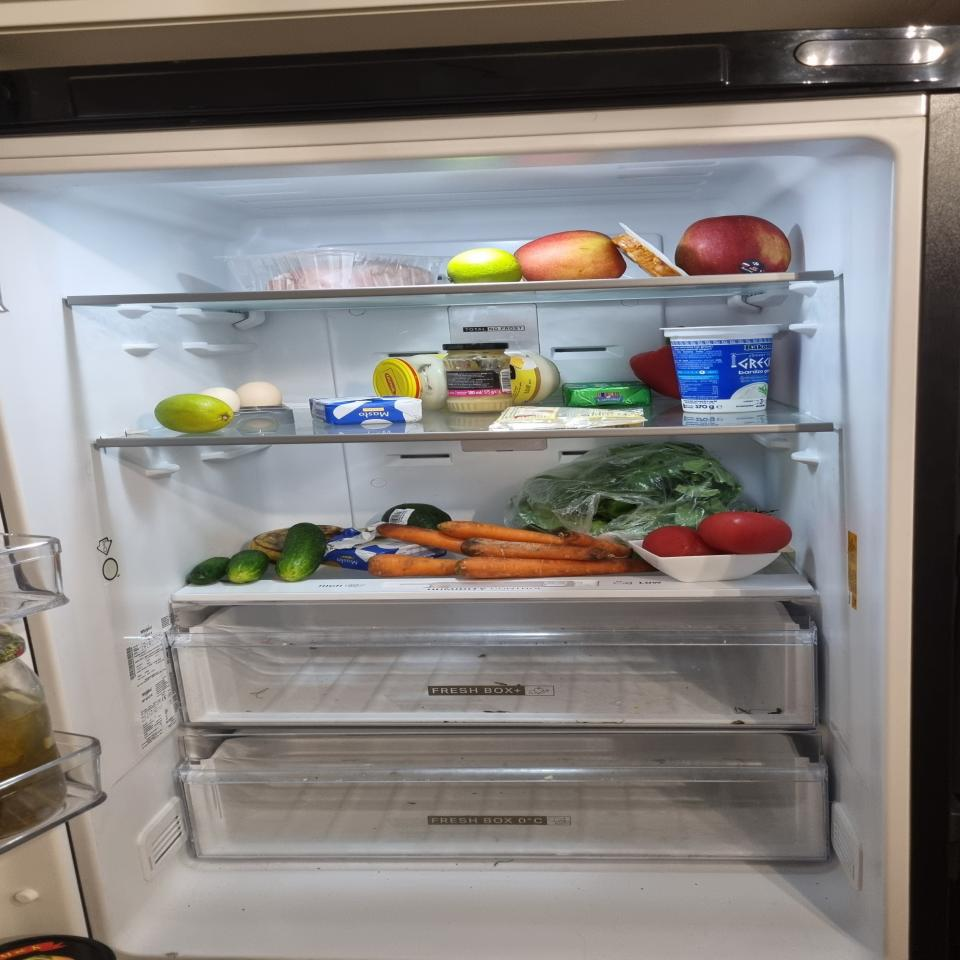Aguacate: (382, 503, 452, 556)
Carne pollo: (214, 247, 454, 291)
Huevos: (199, 382, 281, 412)
Lechuga/Endivia: (505, 440, 742, 542)
Mantequilla: (322, 520, 448, 570), (308, 395, 422, 426), (562, 381, 652, 407)
Manzana: (675, 214, 791, 276), (513, 230, 627, 282)
Pepino: (276, 523, 326, 581), (227, 550, 270, 584), (187, 557, 230, 585)
Plátano: (248, 525, 344, 564)
Queso: (497, 406, 647, 430)
Tomate: (697, 508, 793, 554), (642, 525, 719, 558)
Yogur: (657, 324, 784, 413)
Zanahoria: (366, 520, 646, 578)
bell pepper: (630, 326, 690, 399)
lime: (154, 394, 232, 433), (446, 248, 522, 284)
mayonnaise: (371, 349, 560, 410)
mustard: (440, 342, 516, 413)
